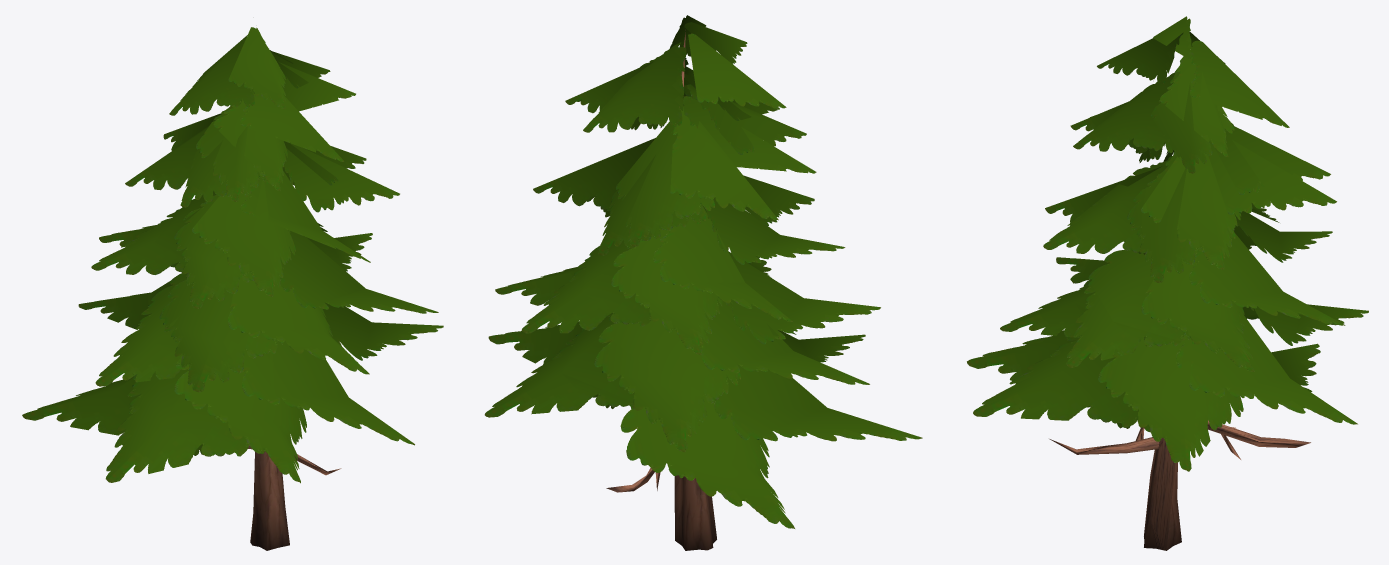
File: Pine_2.low.gltf
The picture shows the model from 3 angles, left to right: view 1: azimuth 30°, elevation 25°; view 2: azimuth 150°, elevation 25°; view 3: azimuth 270°, elevation 25°; orthographic projection. The views are drawn at different scales.
Visible parts, largest first — view 1: Pine_2; view 2: Pine_2; view 3: Pine_2.
Part boxes in pixels (<box>): Pine_2: <box>22,27,443,550</box>; Pine_2: <box>484,15,922,550</box>; Pine_2: <box>967,16,1368,550</box>.
Bounding box in the file's own units: 5.73 × 7.3 × 5.22.
Materials: 2 (2 with a texture image).
